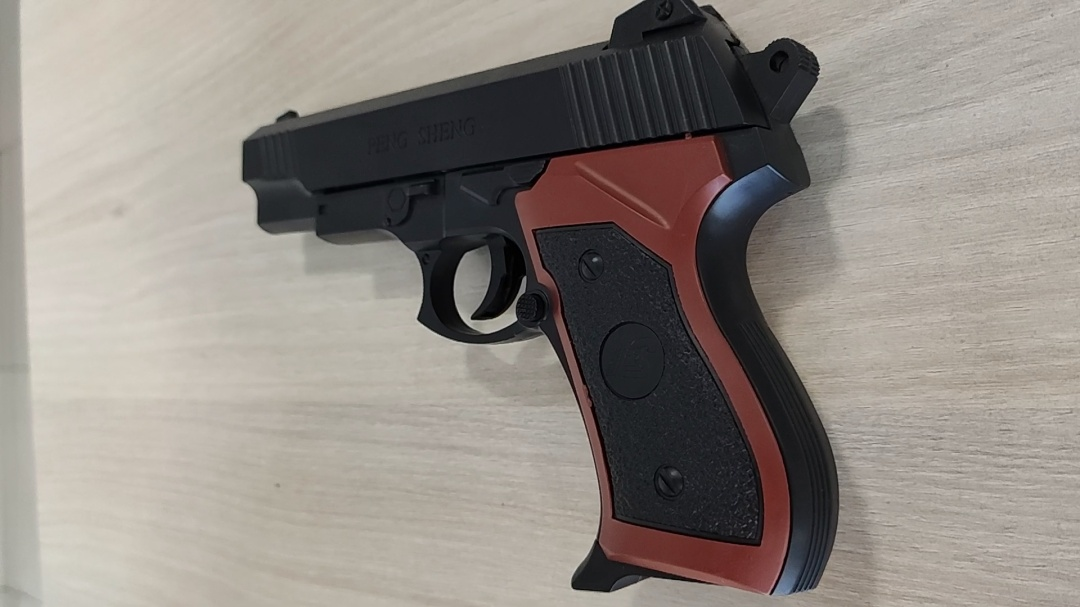gun: (242, 2, 845, 602)
